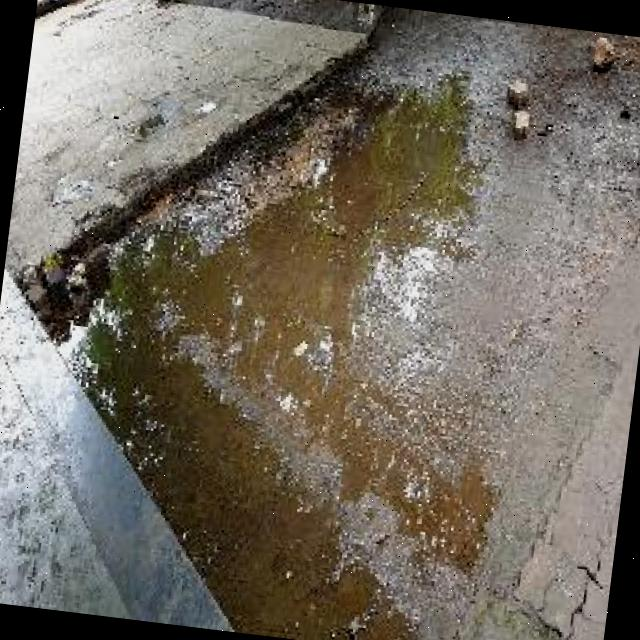stagnation: (89, 86, 484, 640)
